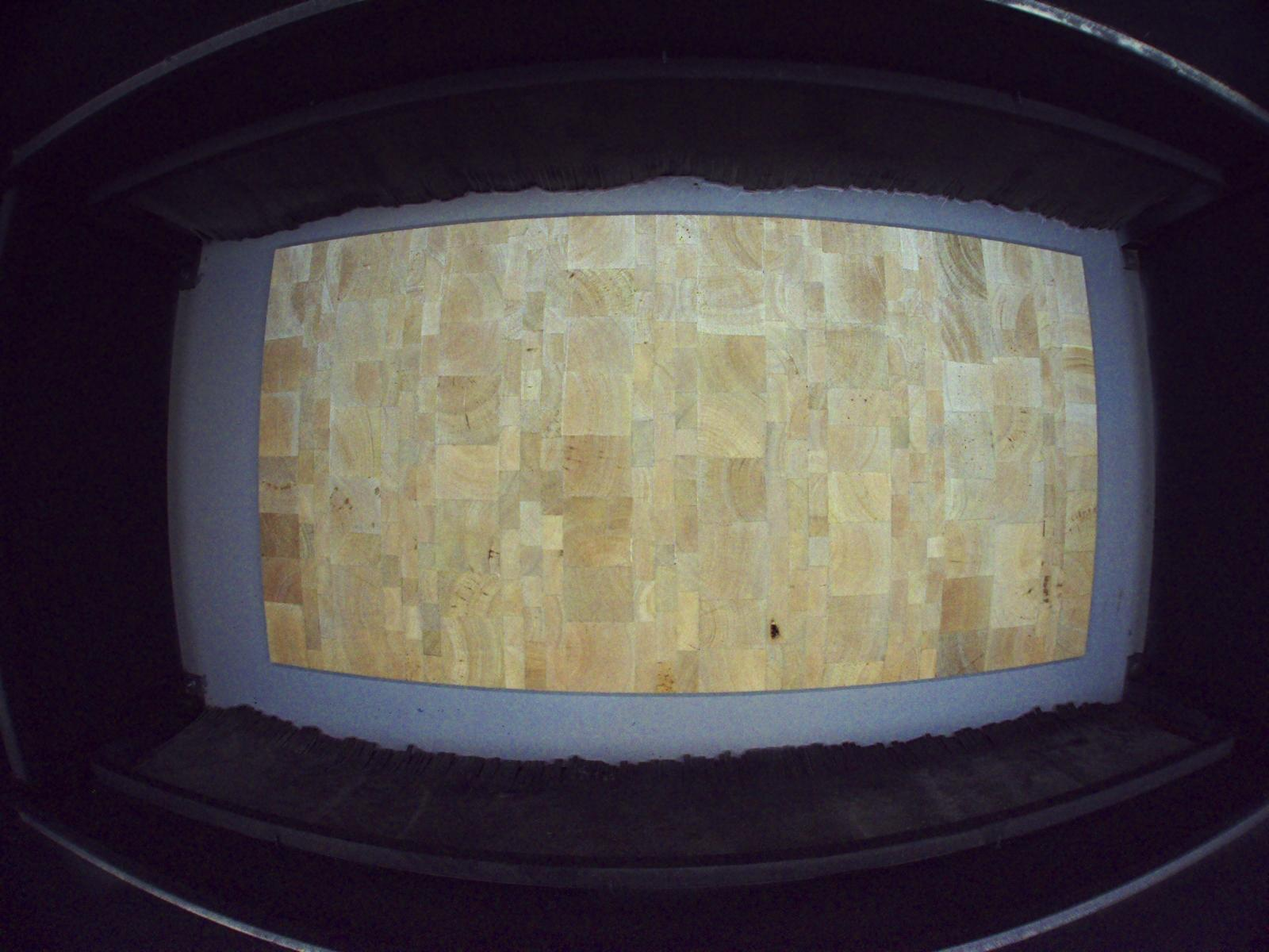nudillo: (769, 616, 783, 642)
sheck_ecuatoriano: (488, 538, 500, 574)
